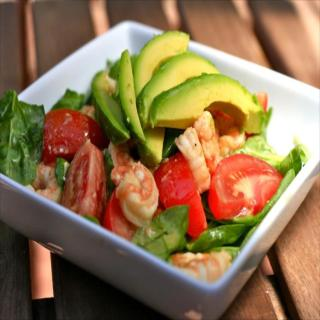tomato: (209, 155, 287, 218), (155, 150, 207, 243), (60, 142, 108, 228), (43, 108, 104, 164), (103, 188, 138, 245)
